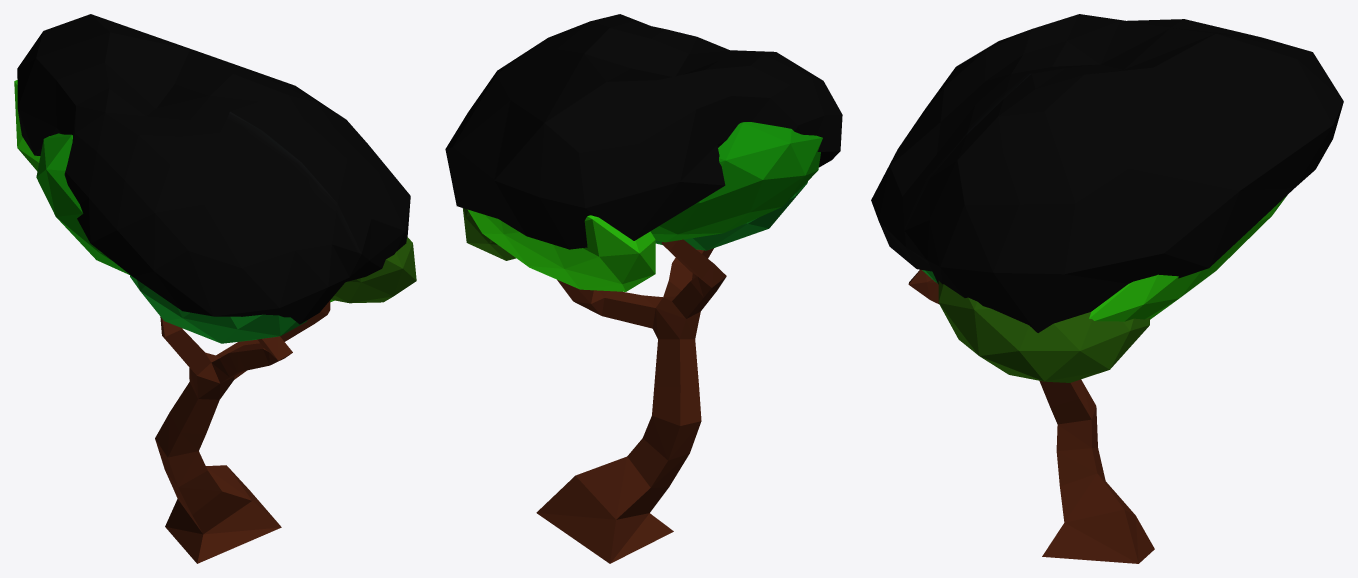
Rendered from SnowTree5.fbx.
The picture shows the model from 3 angles, left to right: view 1: azimuth 30°, elevation 25°; view 2: azimuth 150°, elevation 25°; view 3: azimuth 270°, elevation 25°; orthographic projection. The views are drawn at different scales.
Visible parts, largest first — view 1: snowtree5; view 2: snowtree5; view 3: snowtree5.
Boxes of the visible parts, bbox=[...] form: snowtree5: bbox=[14, 14, 416, 563]; snowtree5: bbox=[445, 14, 842, 563]; snowtree5: bbox=[871, 14, 1343, 563].
Bounding box in the file's own units: 564 × 790 × 674.
